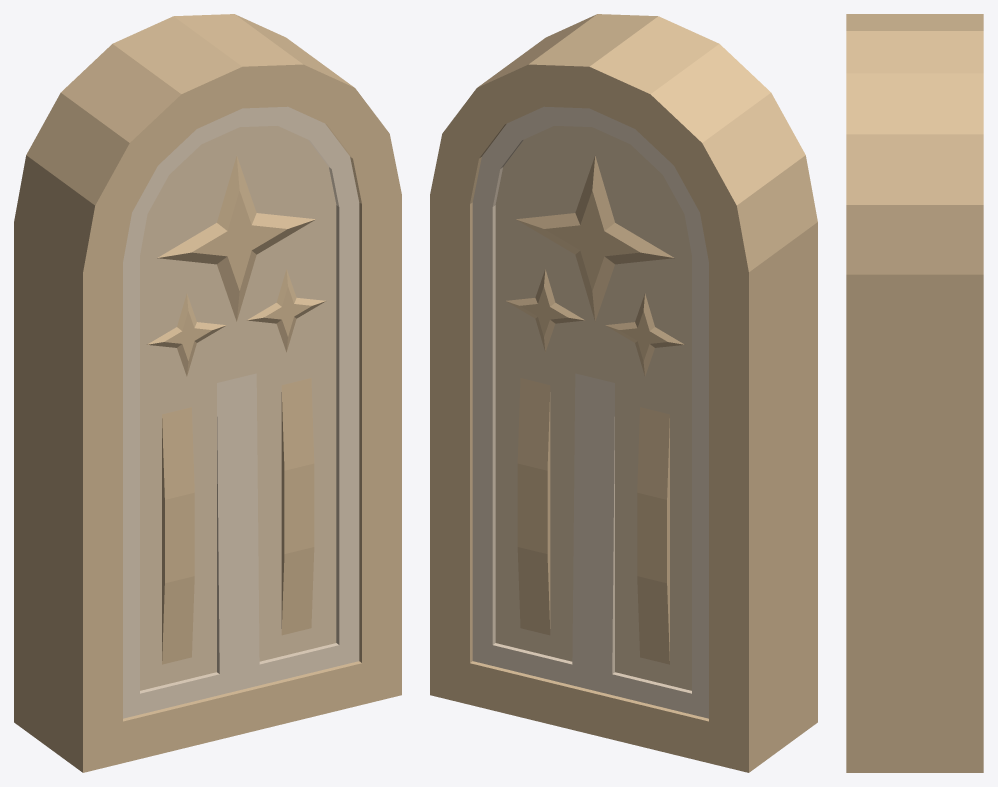
The model's file is Wall_Straight_Door_Stars.glb.
The picture shows the model from 3 angles, left to right: view 1: azimuth 30°, elevation 25°; view 2: azimuth 150°, elevation 25°; view 3: azimuth 270°, elevation 25°; orthographic projection.
Visible parts, largest first — view 1: Wall_Straight_Door_Stars; view 2: Wall_Straight_Door_Stars; view 3: Wall_Straight_Door_Stars.
Part boxes in pixels (x1=…): Wall_Straight_Door_Stars: x1=14, y1=14, x2=401, y2=772; Wall_Straight_Door_Stars: x1=430, y1=14, x2=817, y2=772; Wall_Straight_Door_Stars: x1=846, y1=14, x2=983, y2=772.
Size of the model in its own units: 0.8 by 1.6 by 0.3.
